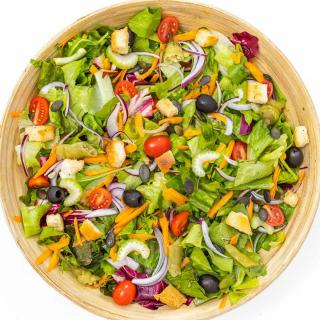salad: (9, 2, 314, 318)
veg: (7, 3, 316, 320)
